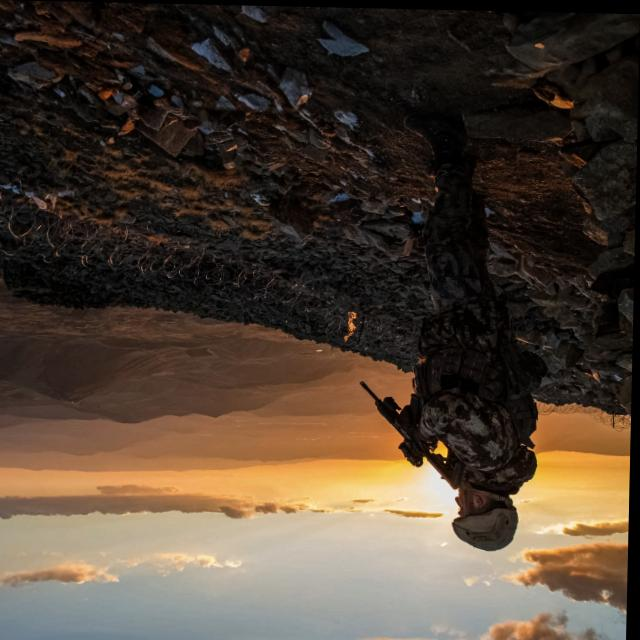poh_personel: (392, 105, 546, 552)
